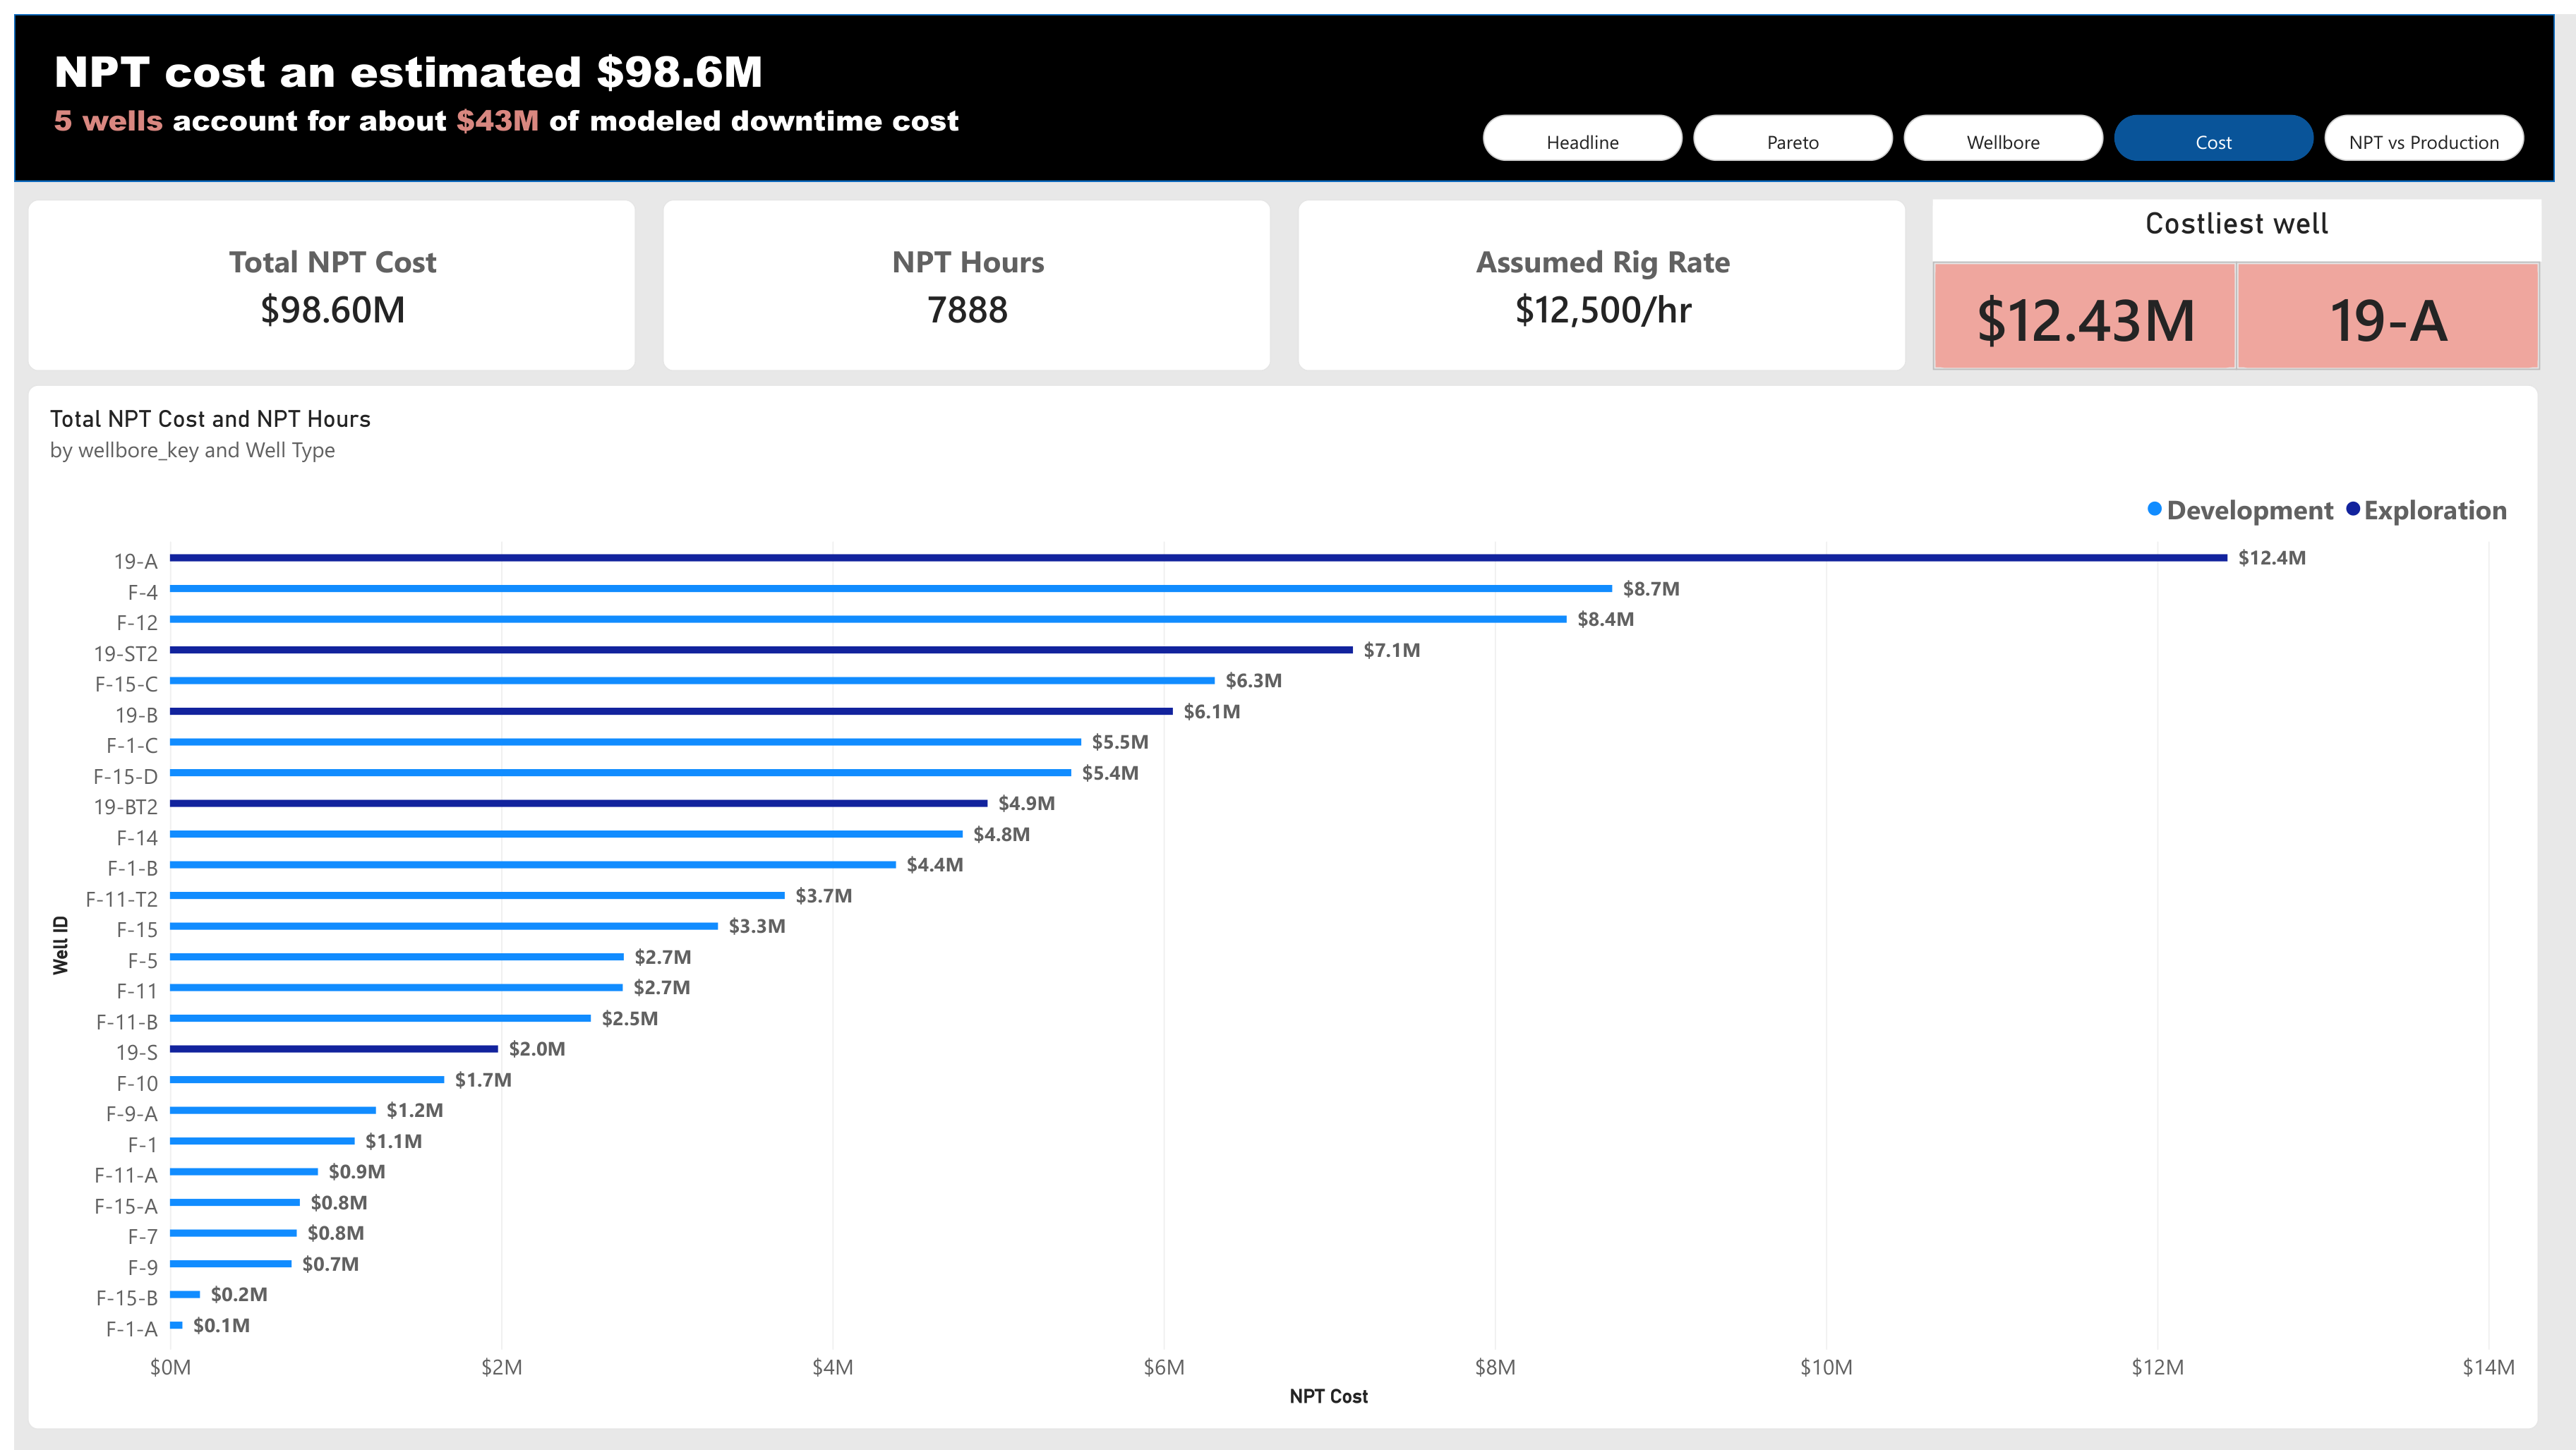

This screenshot's page, from the dashboard's own definition file:
{"tool":"powerbi","page":{"name":"Cost","canvas":[1920,1080],"ordinal":3},"visuals":[{"type":"clusteredBarChart","fields":{"Category":["public dim_wellbore.wellbore_key"],"Series":["public dim_wellbore.Well Type"],"Y":["_Measures.NPT Cost"]},"box":[10.3,279,1897.8,790.4],"z":0},{"type":"shape","box":[0,0,1920,126.7],"z":1000},{"type":"cardVisual","fields":{"Data":["_Measures.NPT Cost"]},"box":[10,140,460,130],"z":2000},{"type":"pageNavigator","box":[1109,76,791,35],"z":3000},{"type":"textbox","box":[30.9,20.6,850.1,84.4],"z":4000},{"type":"cardVisual","fields":{"Data":["_Measures.NPT Hours"]},"box":[490,140,460,130],"z":5000},{"type":"cardVisual","fields":{"Data":["_Measures.Assumed Rig Rate"]},"box":[970,140,460,130],"z":6000},{"type":"cardVisual","title":"Costliest well ","fields":{"Data":["_Measures.Costliest Well Cost","_Measures.Costliest Well"]},"box":[1450,140,460,130],"z":7000}]}

Visuals, with their boxes in screenshot pixels (x1, y1, x2, y2), scaled from the page's 1920x1080 canvas onto the 2576x1450 screenshot:
clusteredBarChart - public dim_wellbore.wellbore_key x public dim_wellbore.Well Type: [left=14, top=375, right=2560, bottom=1436]
shape: [left=0, top=0, right=2575, bottom=170]
cardVisual - _Measures.NPT Cost: [left=13, top=188, right=630, bottom=363]
pageNavigator: [left=1488, top=102, right=2549, bottom=149]
textbox: [left=42, top=28, right=1182, bottom=141]
cardVisual - _Measures.NPT Hours: [left=658, top=188, right=1275, bottom=363]
cardVisual - _Measures.Assumed Rig Rate: [left=1301, top=188, right=1918, bottom=363]
"Costliest well " cardVisual: [left=1946, top=188, right=2563, bottom=363]
